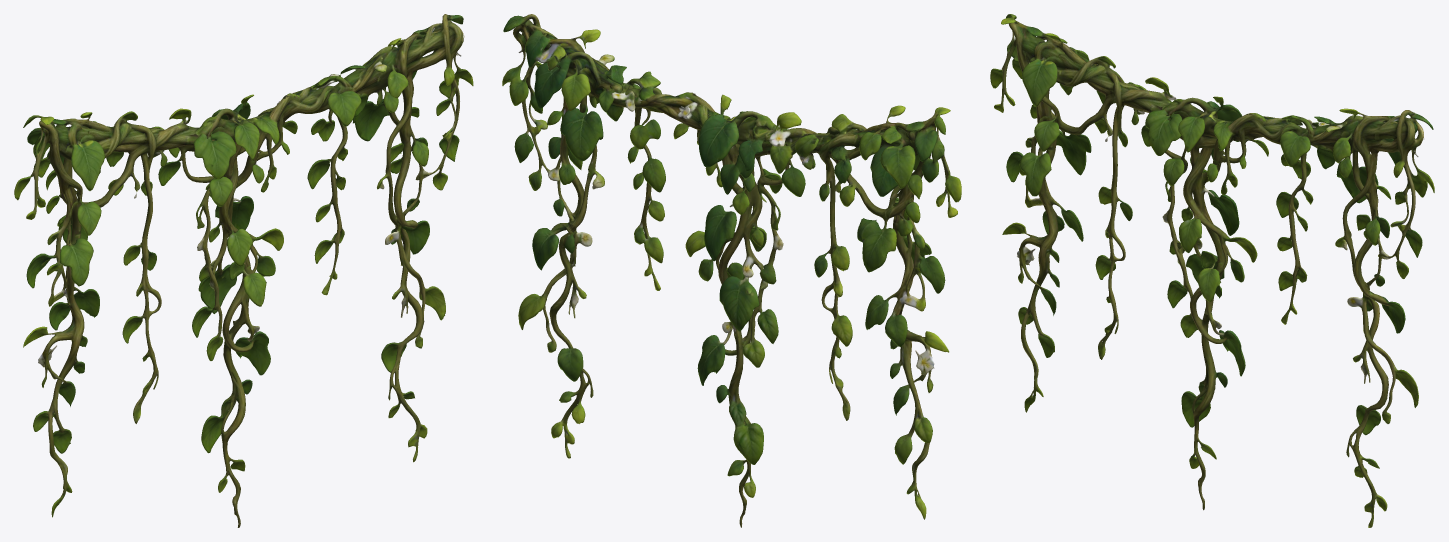
Rendered from ivy-vine.glb.
3 views of the same model, side by side, from view 1: azimuth 30°, elevation 25°; view 2: azimuth 150°, elevation 25°; view 3: azimuth 330°, elevation 25° (orthographic). The views are drawn at different scales.
Visible parts, largest first — view 1: ivy-vine; view 2: ivy-vine; view 3: ivy-vine.
Part boxes in pixels (x1,y1,x2,y2): ivy-vine: (14,14,473,527); ivy-vine: (502,14,961,527); ivy-vine: (990,14,1434,527).
Size of the model in its own units: 2.7 by 2.6 by 0.3692.
1 material, 1 textured.
